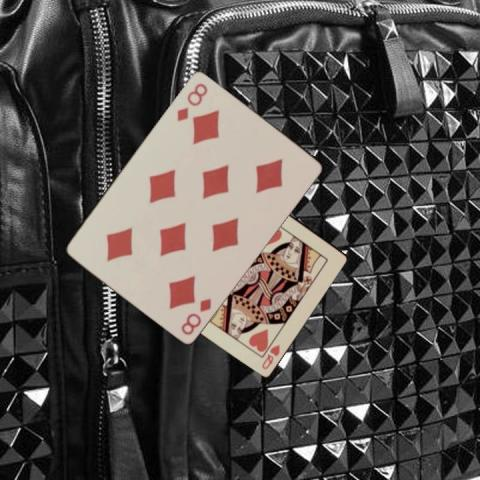8d: (174, 79, 210, 123), (178, 295, 213, 336)
Qh: (259, 341, 281, 371)
